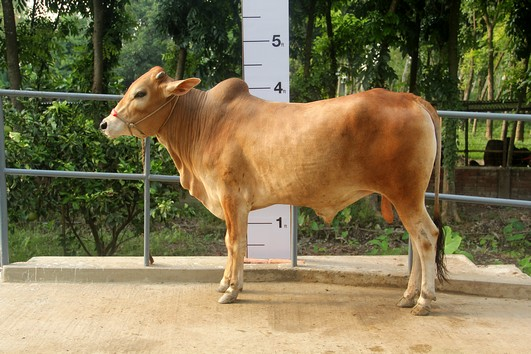cow: (92, 61, 457, 320)
